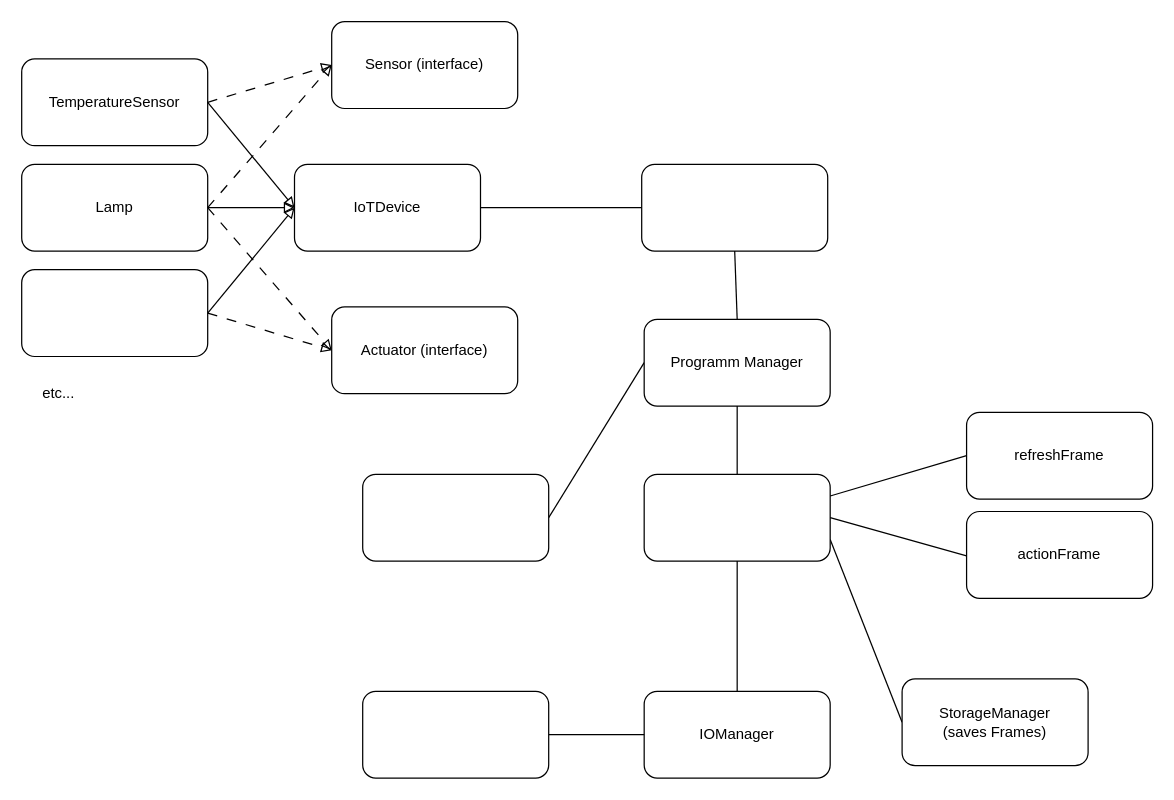
Some shapes in this 1174 by 800 pixel diagram are drawn without their labels. The centre of each missing label's shape, as x and y in pixels:
"DeviceController" belongs at (734,207).
"DeviceFactory" belongs at (455,734).
"displayAction" belongs at (455,517).
"Heater" belongs at (114,312).
"Queue" belongs at (736,517).
